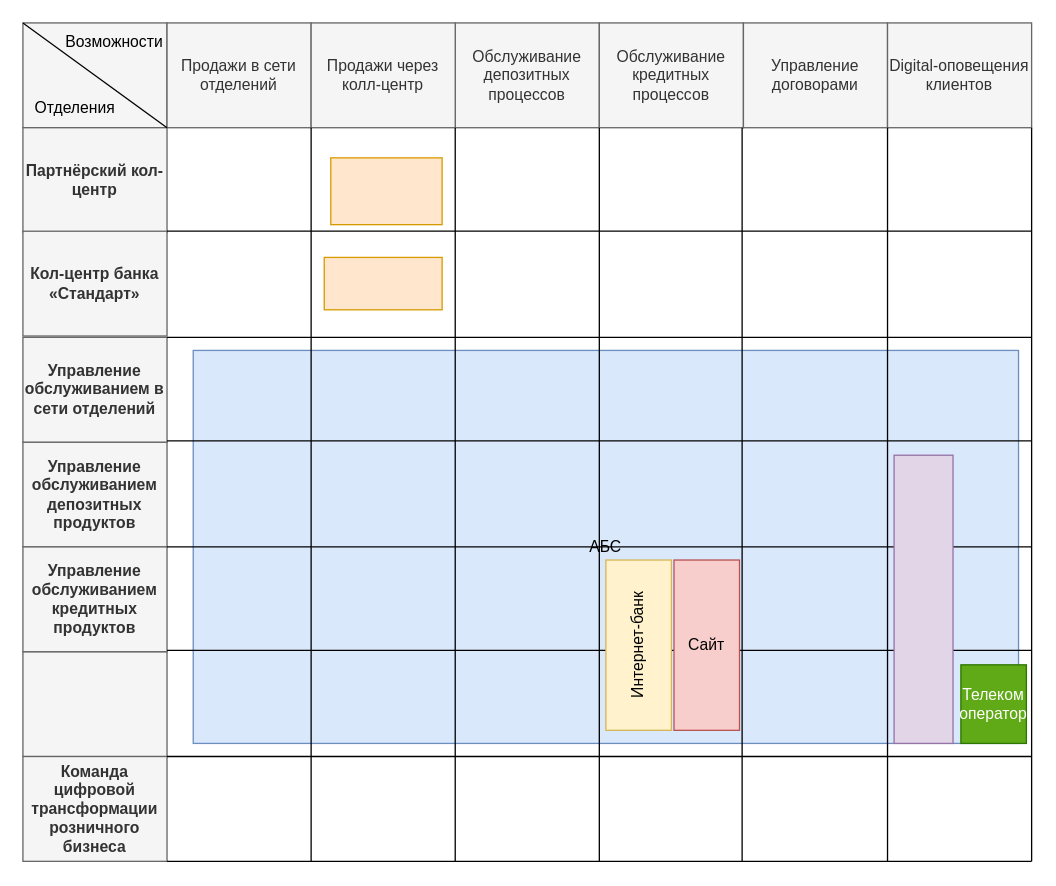
Image size: 1056x886. Some labels were removed from this diagram. Each missing label, with the centre of its shape:
"Система колл-центра" belongs at pixel 382 283.
"Система партнерского колл-центра" belongs at pixel 385 191.
"СМС-шлюз" belongs at pixel 923 598.
"Управление IT" belongs at pixel 94 703.
